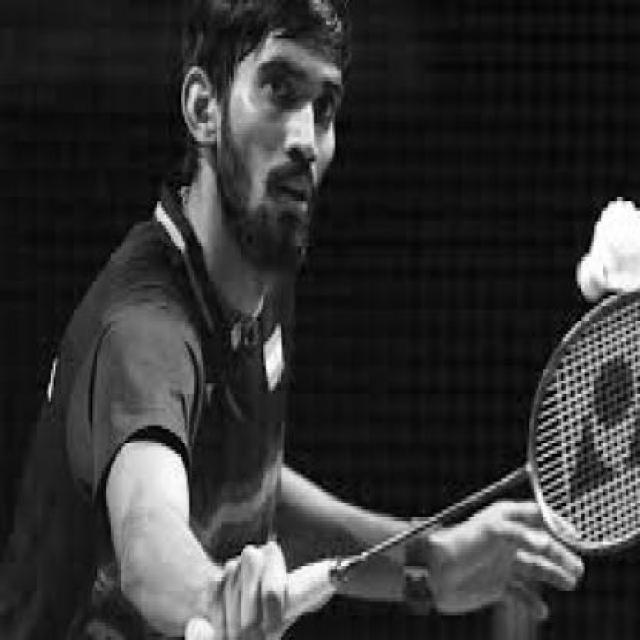Shuttlecock: (574, 192, 640, 305)
